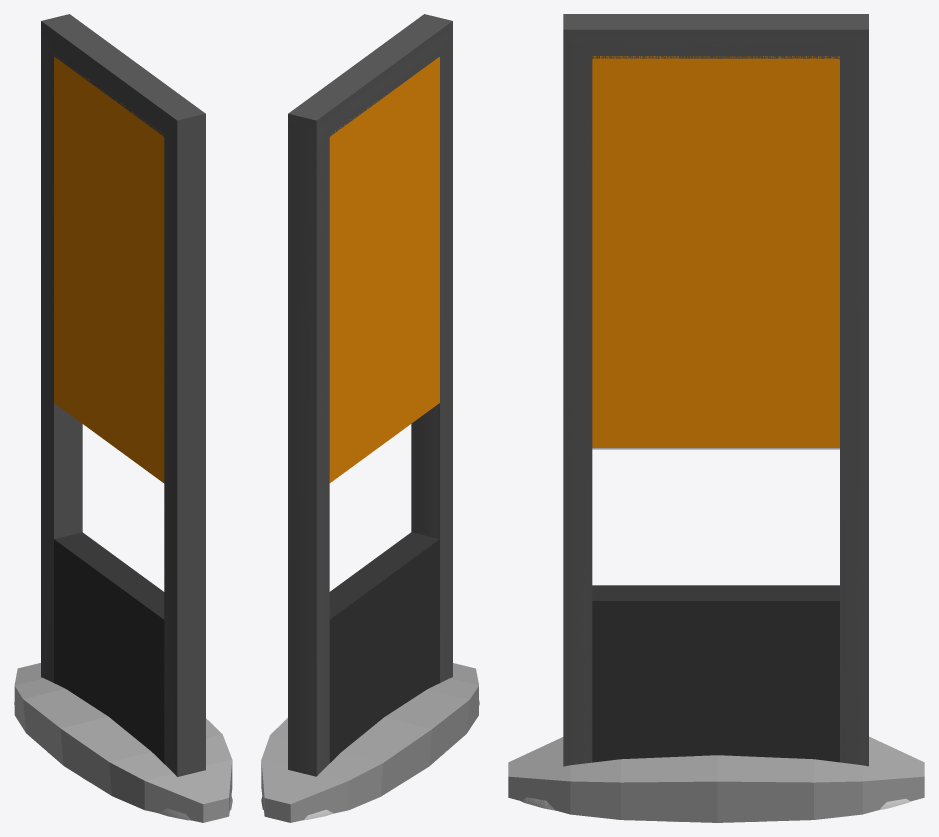
Rendered from s_gasstation_sign.dae.
The picture shows the model from 3 angles, left to right: view 1: azimuth 30°, elevation 25°; view 2: azimuth 150°, elevation 25°; view 3: azimuth 270°, elevation 25°; orthographic projection. The views are drawn at different scales.
Visible parts, largest first — view 1: Colmesh_jv_gasstation_sign-1, jv_gasstation_sign_L200, jv_gasstation_sign_L50; view 2: Colmesh_jv_gasstation_sign-1, jv_gasstation_sign_L200, jv_gasstation_sign_L50; view 3: Colmesh_jv_gasstation_sign-1, jv_gasstation_sign_L200, jv_gasstation_sign_L50.
Part boxes in pixels (x1=…): Colmesh_jv_gasstation_sign-1: x1=14, y1=14, x2=232, y2=822; jv_gasstation_sign_L200: x1=14, y1=31, x2=197, y2=780; jv_gasstation_sign_L50: x1=42, y1=31, x2=232, y2=820; Colmesh_jv_gasstation_sign-1: x1=261, y1=14, x2=478, y2=822; jv_gasstation_sign_L200: x1=261, y1=35, x2=451, y2=820; jv_gasstation_sign_L50: x1=262, y1=31, x2=479, y2=808; Colmesh_jv_gasstation_sign-1: x1=508, y1=14, x2=924, y2=822; jv_gasstation_sign_L200: x1=524, y1=38, x2=910, y2=821; jv_gasstation_sign_L50: x1=521, y1=38, x2=865, y2=821.
Bounding box in the file's own units: 106 × 272 × 555.
